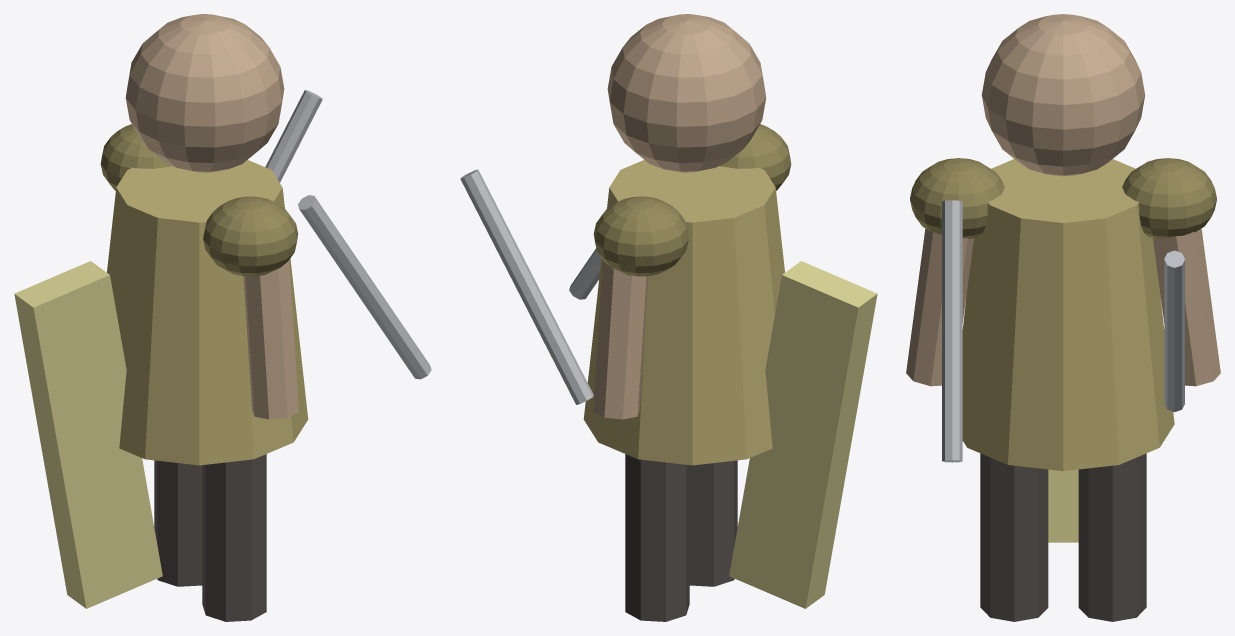
The model's file is hero_sarn_0.glb.
3 renders of one model, left to right at view 1: azimuth 30°, elevation 25°; view 2: azimuth 150°, elevation 25°; view 3: azimuth 270°, elevation 25°, orthographic. The views are drawn at different scales.
Parts seen in each view (by area): view 1: figurka; view 2: figurka; view 3: figurka.
Boxes of the visible parts, <box> form: figurka: <box>14,14,431,621</box>; figurka: <box>460,14,877,621</box>; figurka: <box>906,14,1220,621</box>.
Bounding box in the file's own units: 0.6349 × 0.985 × 0.4814.
